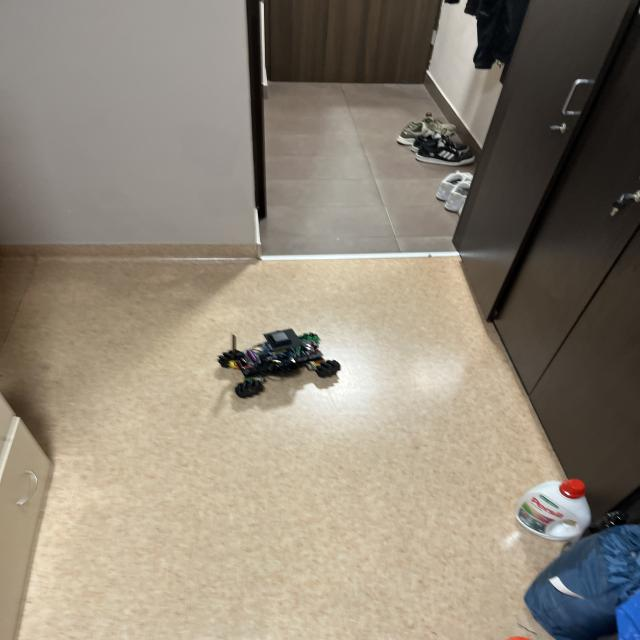robot: (218, 328, 341, 398)
